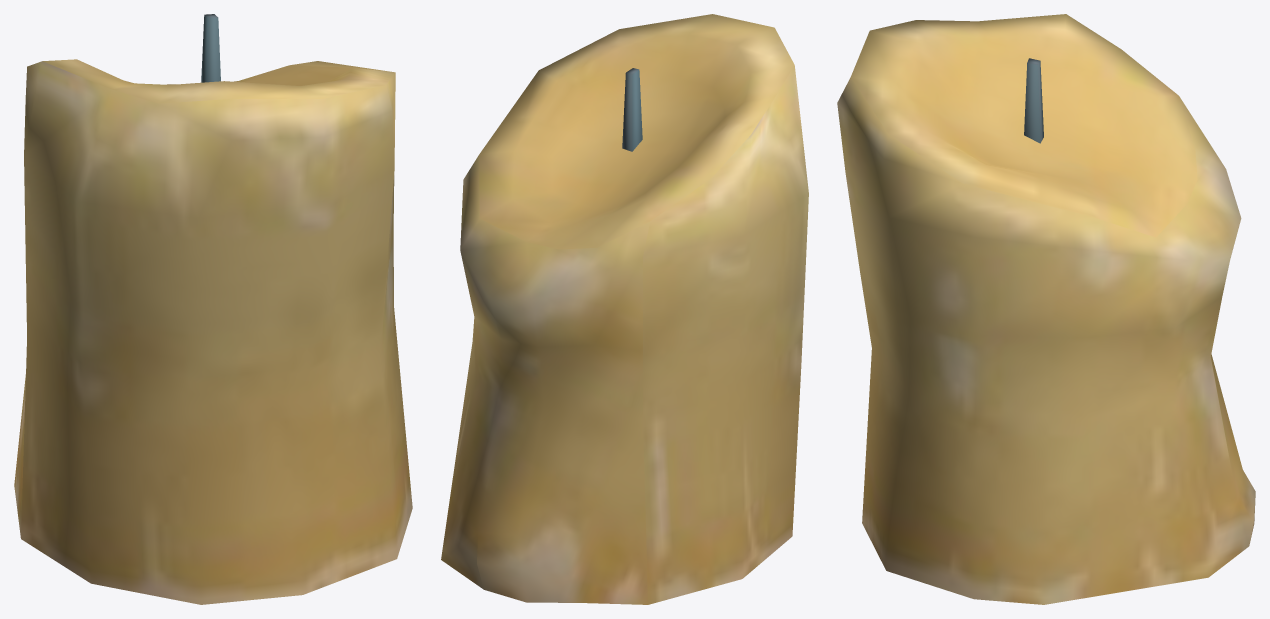
The model's file is tr_candle_short.glb.
The picture shows the model from 3 angles, left to right: view 1: azimuth 30°, elevation 25°; view 2: azimuth 150°, elevation 25°; view 3: azimuth 270°, elevation 25°; orthographic projection. The views are drawn at different scales.
Parts seen in each view (by area): view 1: model; view 2: model; view 3: model.
Boxes of the visible parts, left/top/right/bottom form: model: left=14, top=14, right=412, bottom=604; model: left=441, top=14, right=808, bottom=604; model: left=837, top=14, right=1255, bottom=604.
Size of the model in its own units: 0.0939 by 0.132 by 0.1079.
Materials: 1 (1 with a texture image).
